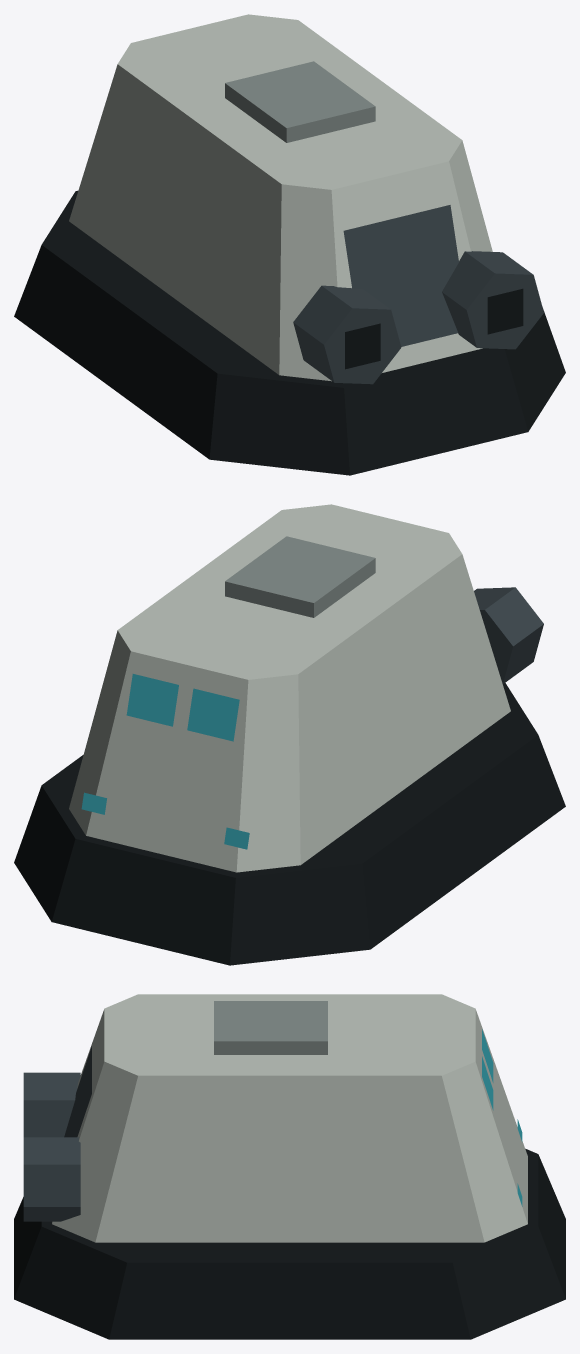
The model's file is hover.glb.
3 views of the same model, one above another, from view 1: azimuth 30°, elevation 25°; view 2: azimuth 150°, elevation 25°; view 3: azimuth 270°, elevation 25° (orthographic). The views are drawn at different scales.
Visible parts, largest first — view 1: vehicle; view 2: vehicle; view 3: vehicle.
Part boxes in pixels (x1,y1,x2,y2): vehicle: (14,14,565,475); vehicle: (14,504,565,965); vehicle: (14,994,565,1339).
Bounding box in the file's own units: 6.17 × 4.26 × 8.95.
